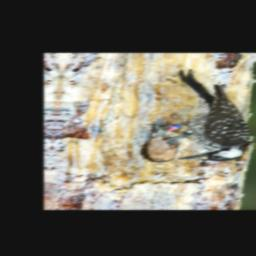Woodpecker: (149, 69, 256, 162)
